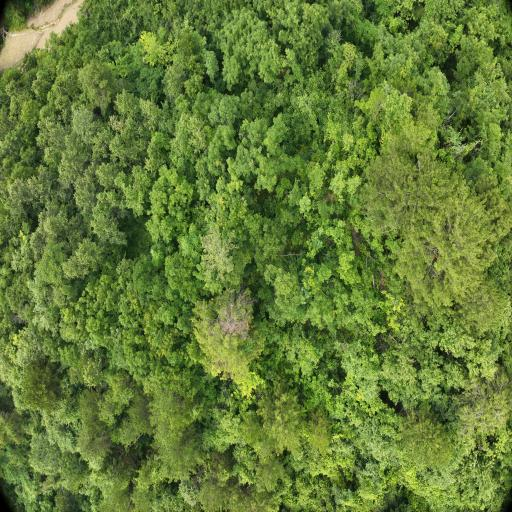dead-tree: (221, 315, 250, 337)
